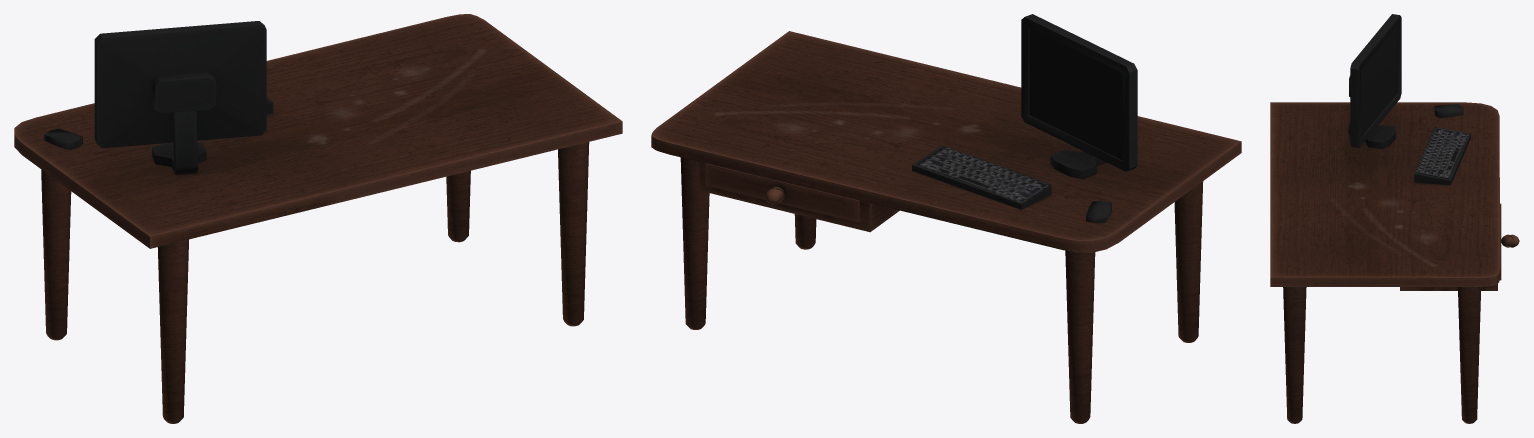
The model's file is stul.fbx.
The picture shows the model from 3 angles, left to right: view 1: azimuth 30°, elevation 25°; view 2: azimuth 150°, elevation 25°; view 3: azimuth 270°, elevation 25°; orthographic projection. The views are drawn at different scales.
Visible parts, largest first — view 1: desk_4; view 2: desk_4; view 3: desk_4.
Part boxes in pixels (x1=…): desk_4: x1=14, y1=14, x2=622, y2=423; desk_4: x1=651, y1=14, x2=1241, y2=423; desk_4: x1=1270, y1=14, x2=1519, y2=423.
Bounding box in the file's own units: 259 × 177 × 156.
Materials: 1 (1 with a texture image).
